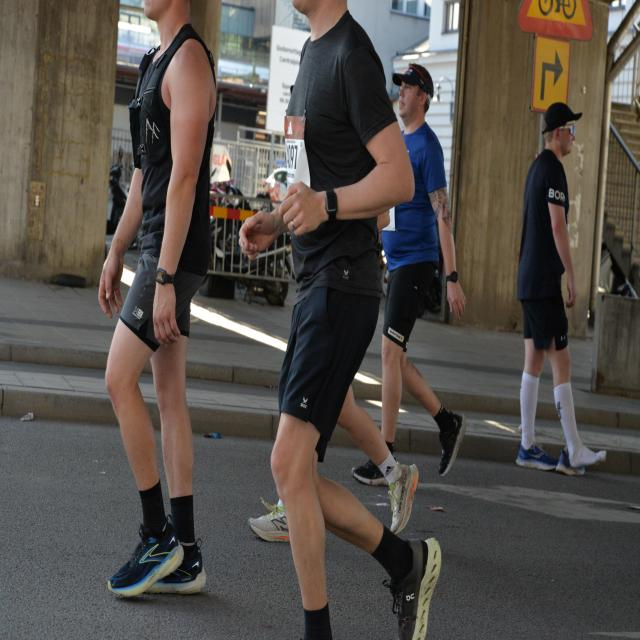runner-detect: (267, 5, 438, 640), (92, 2, 224, 614), (390, 49, 466, 496)
